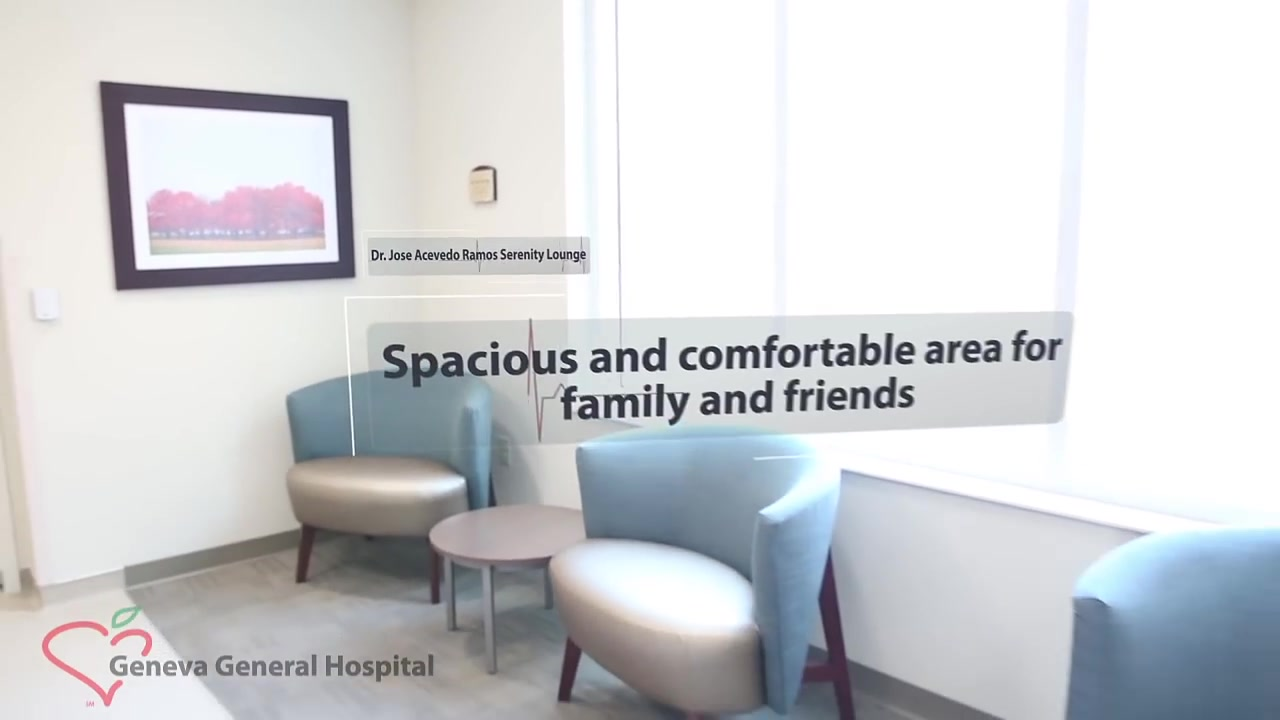sofa: (546, 422, 858, 720), (285, 367, 495, 604), (1063, 526, 1280, 720)
table: (426, 504, 588, 675)
